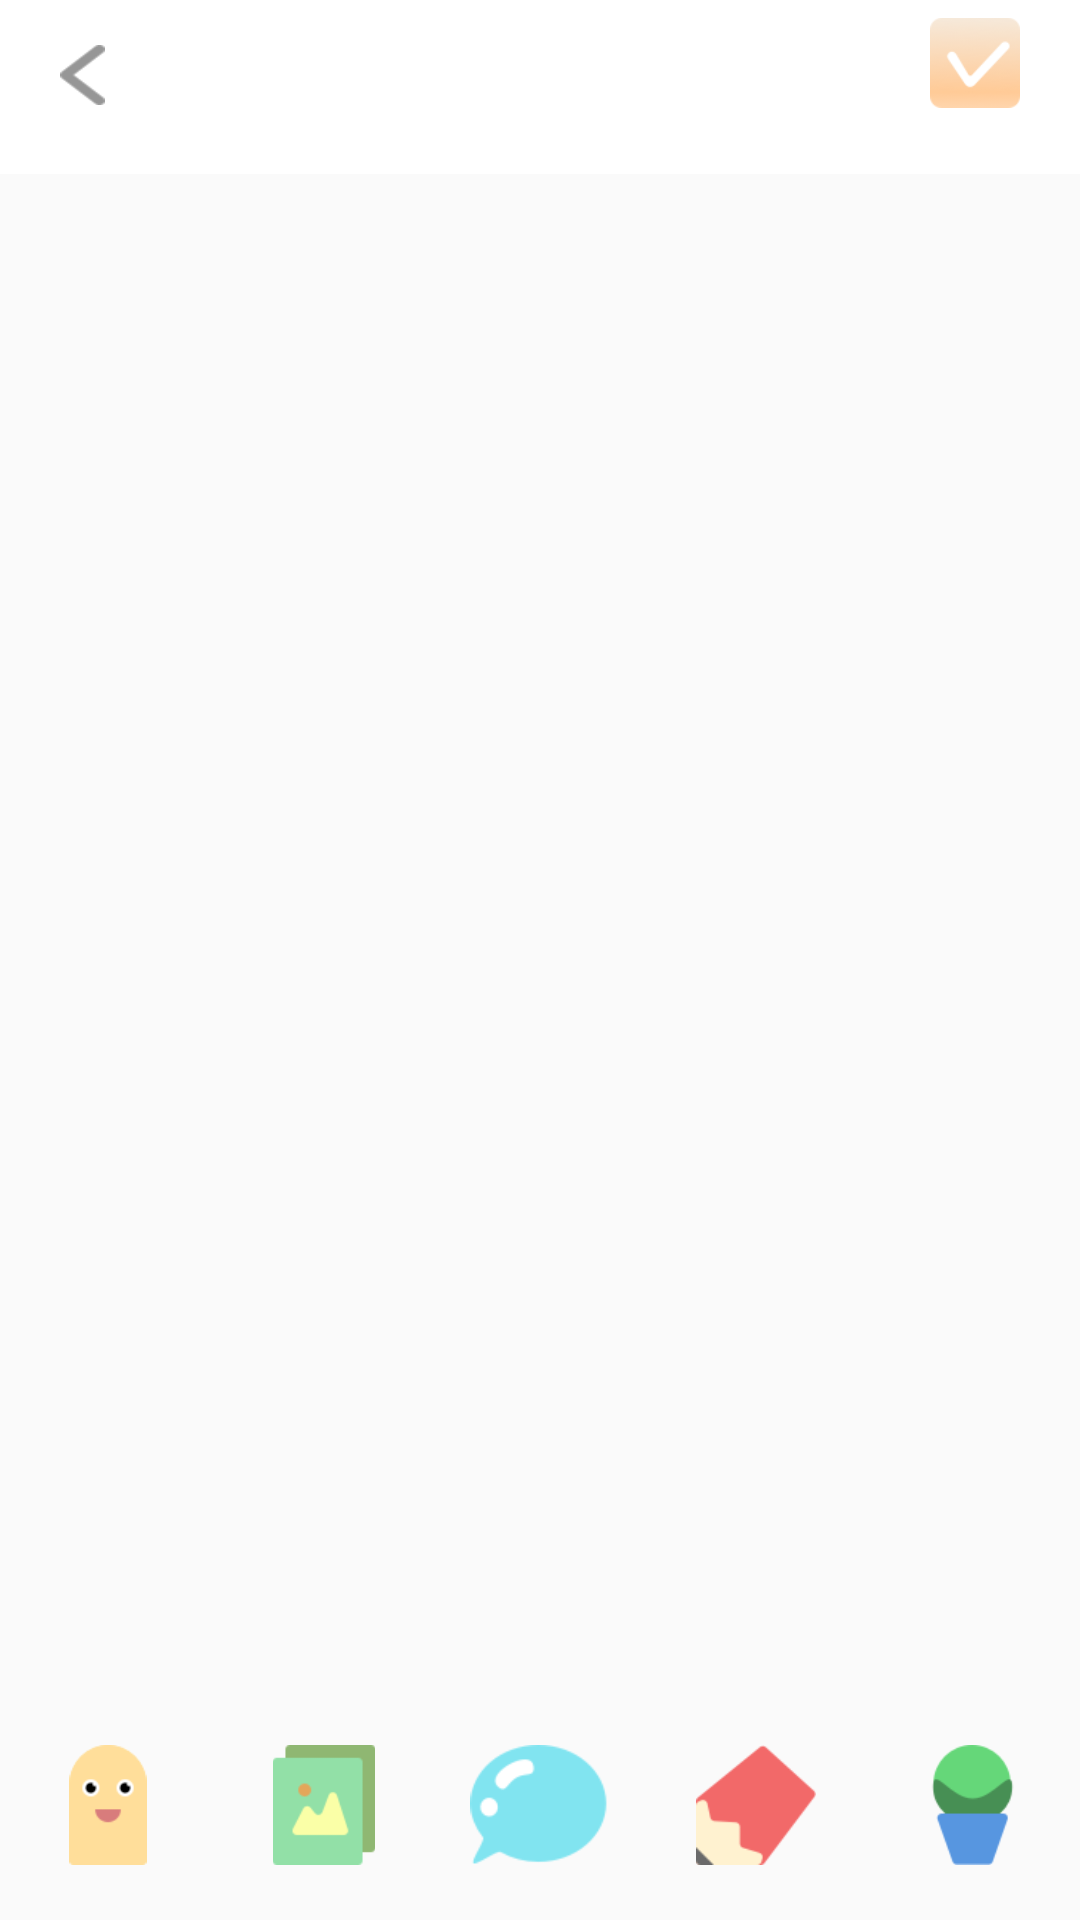

Where to tap for icons on this 1080 x 1920 app screen, as [x,y]:
finish: [975,63]
leftback: [82,75]
pen: [756,1805]
person: [108,1805]
talk: [538,1804]
